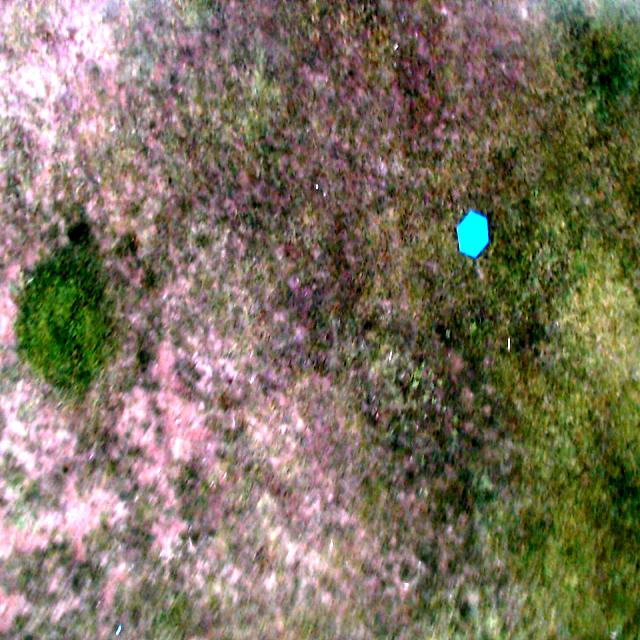blue_hexagon: (455, 210, 489, 262)
